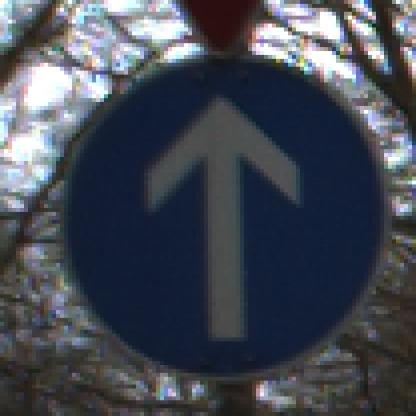AheadOnly: (41, 40, 381, 382)
